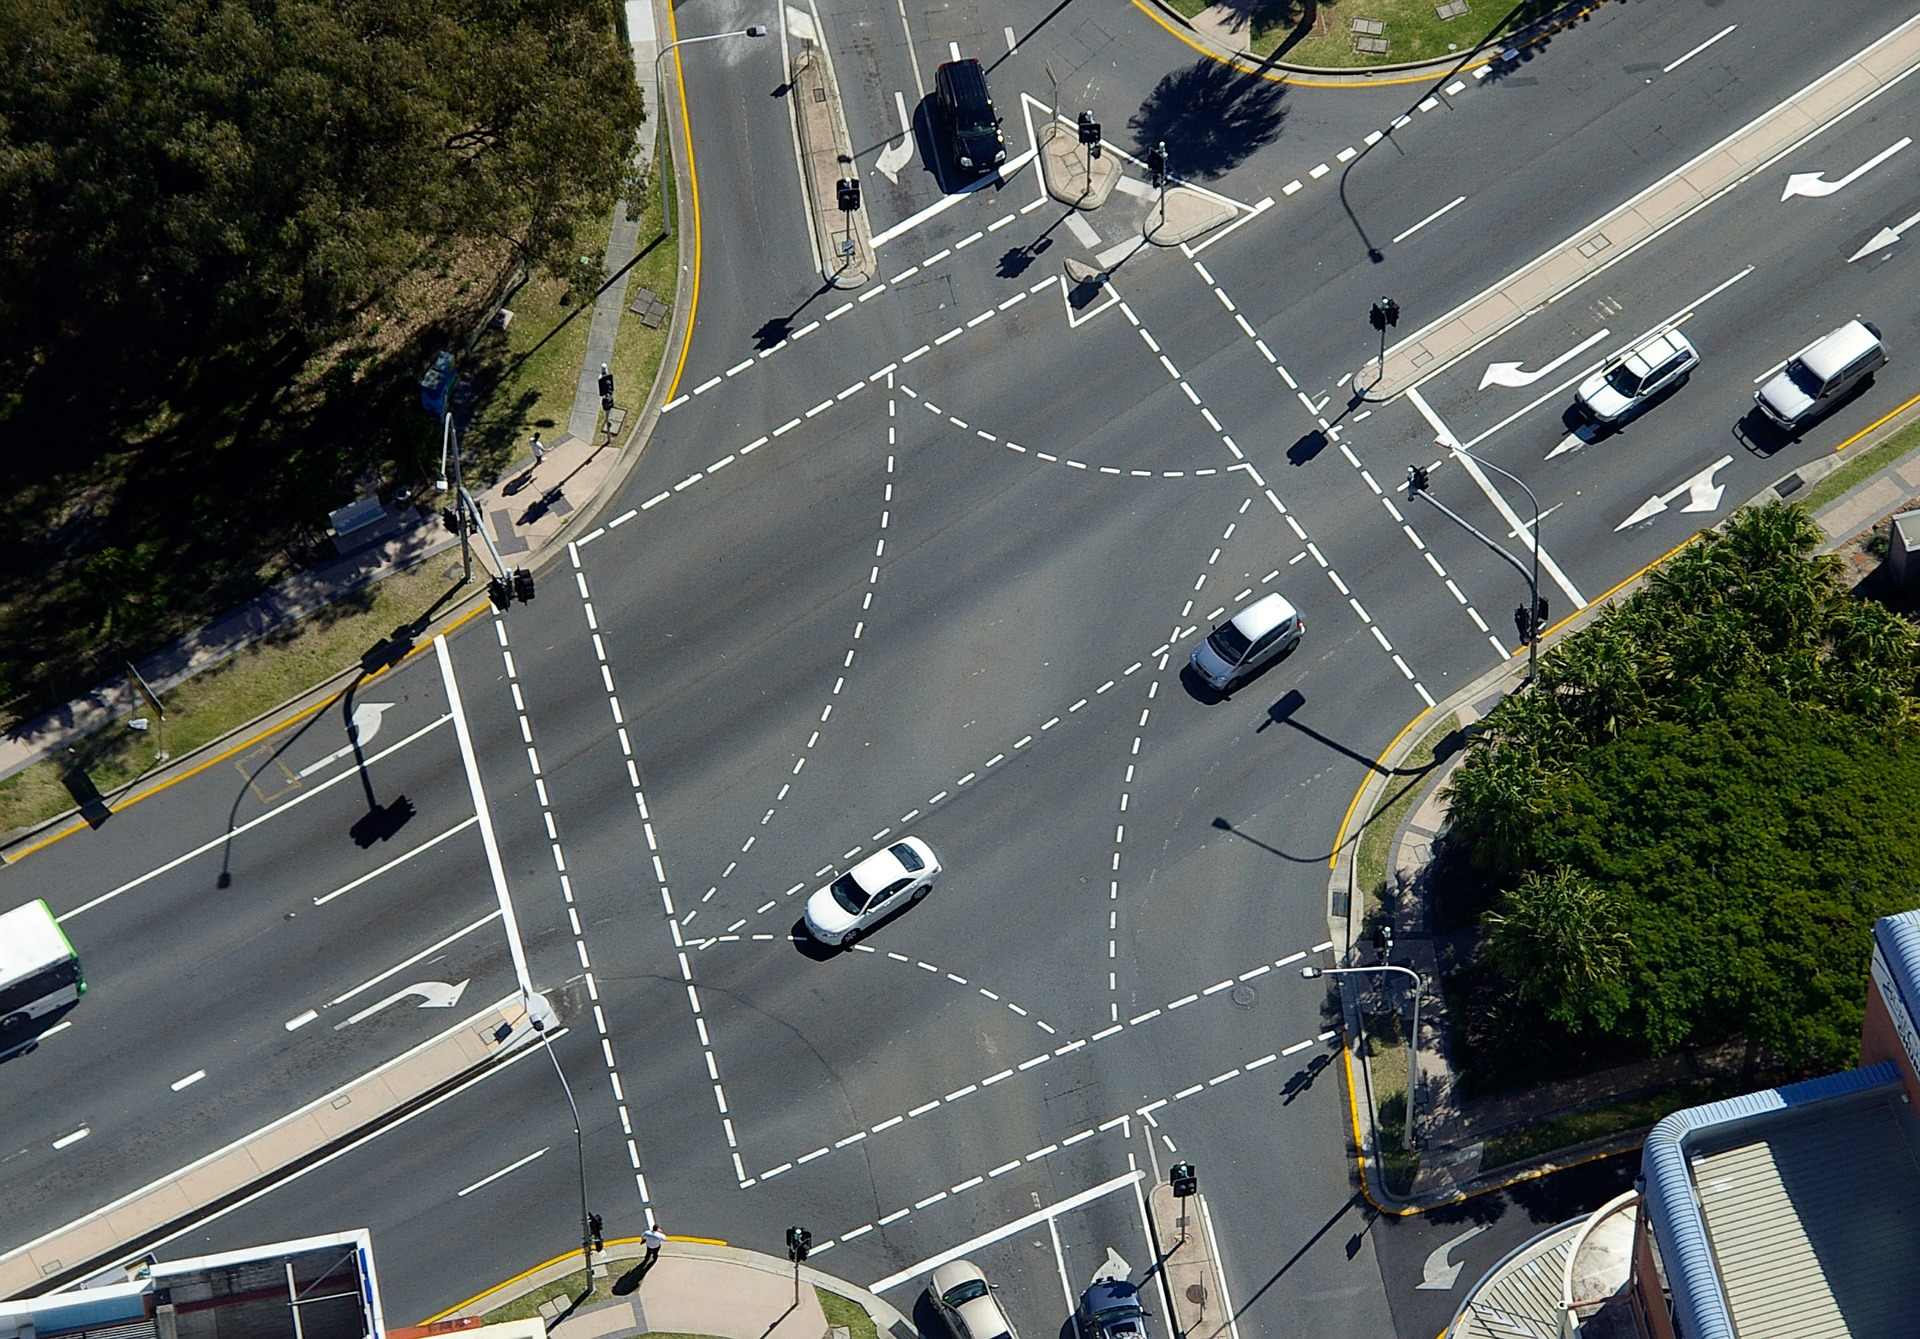car: (801, 834, 942, 947), (1751, 318, 1889, 430), (1571, 322, 1703, 426), (1189, 589, 1306, 693), (1, 897, 89, 1033), (932, 57, 1007, 175), (928, 1257, 1020, 1339), (1077, 1281, 1151, 1339)
